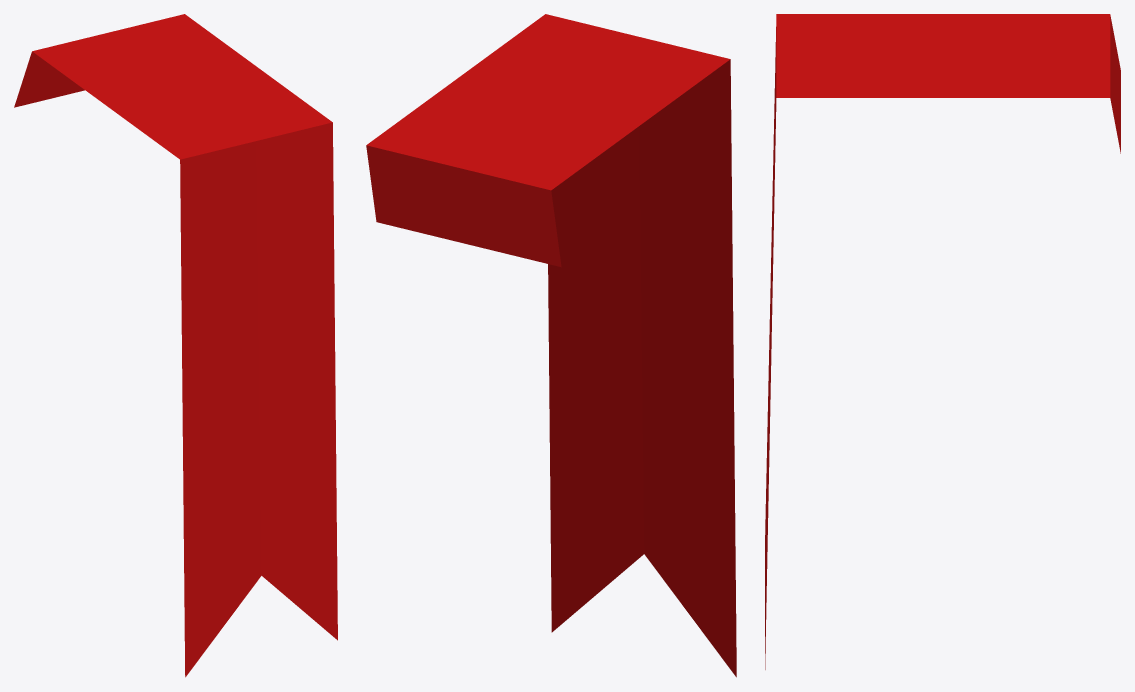
File: Flag.glb
The picture shows the model from 3 angles, left to right: view 1: azimuth 30°, elevation 25°; view 2: azimuth 150°, elevation 25°; view 3: azimuth 270°, elevation 25°; orthographic projection. The views are drawn at different scales.
Parts seen in each view (by area): view 1: 1х0.2_selected.001; view 2: 1х0.2_selected.001; view 3: 1х0.2_selected.001.
Part boxes in pixels (x1=…): 1х0.2_selected.001: x1=14, y1=14, x2=337, y2=677; 1х0.2_selected.001: x1=366, y1=14, x2=736, y2=677; 1х0.2_selected.001: x1=765, y1=14, x2=1120, y2=669.
Bounding box in the file's own units: 0.1727 × 0.5114 × 0.2845.
